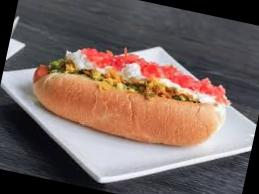Completos: (23, 31, 240, 163)
